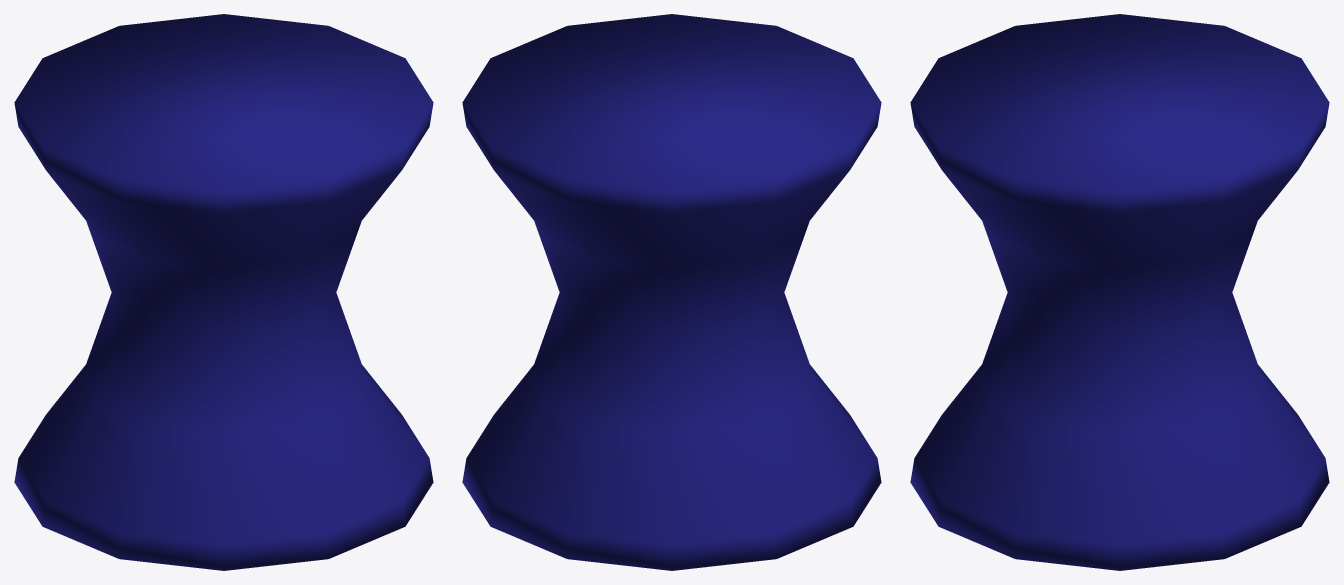
File: t002_stehtisch_neu.glb
3 views of the same model, side by side, from view 1: azimuth 30°, elevation 25°; view 2: azimuth 150°, elevation 25°; view 3: azimuth 270°, elevation 25° (orthographic).
Parts seen in each view (by area): view 1: Cylinder; view 2: Cylinder; view 3: Cylinder.
Part boxes in pixels (bbox=[...]): Cylinder: bbox=[14, 14, 433, 570]; Cylinder: bbox=[462, 14, 881, 570]; Cylinder: bbox=[910, 14, 1329, 570].
Size of the model in its own units: 2 by 2 by 2.
